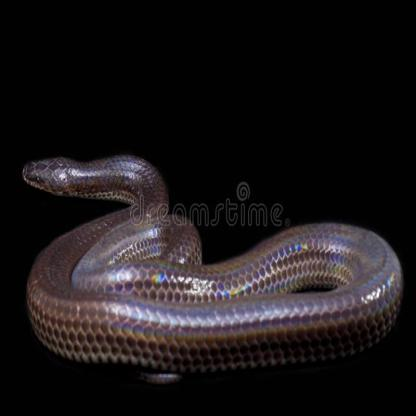snakes: (6, 136, 402, 368)
